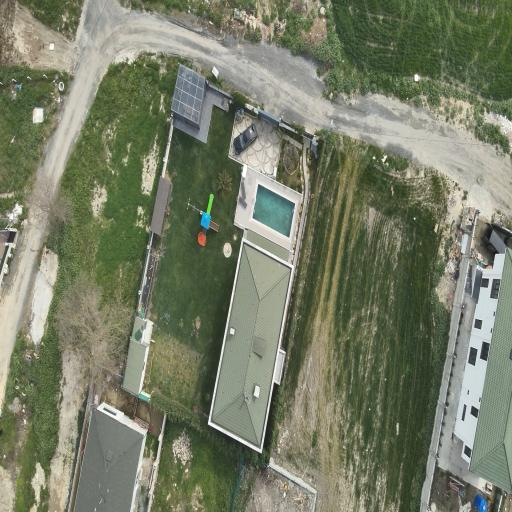car: (233, 124, 256, 154)
